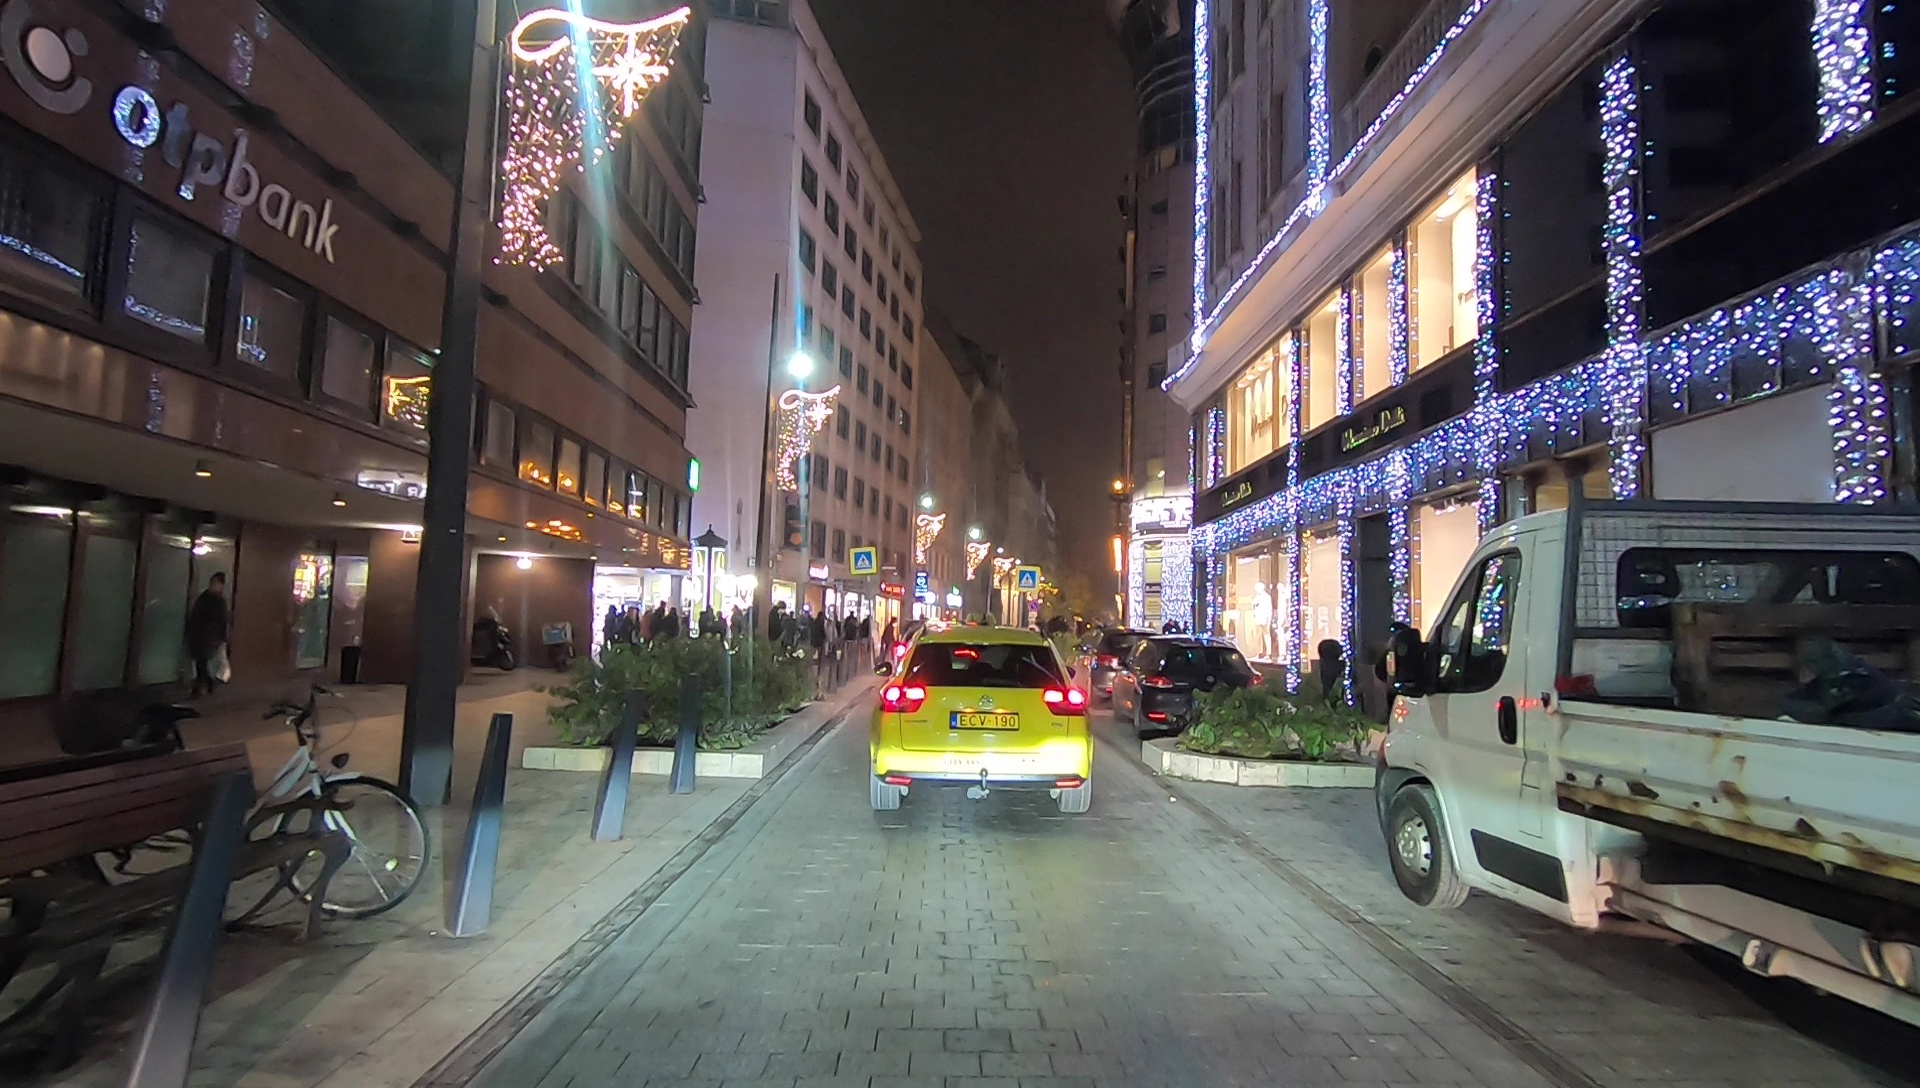person: (186, 573, 232, 702)
